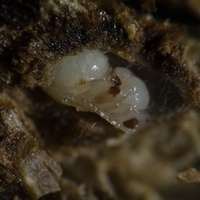insect: (43, 48, 150, 134)
